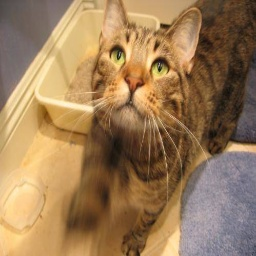cat: (74, 3, 249, 256)
